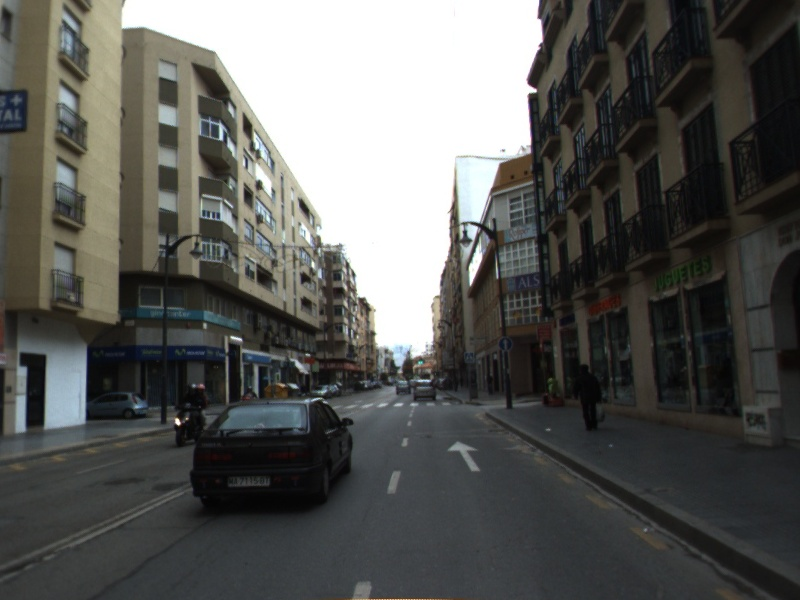STRAIGHT: (444, 439, 483, 474)
